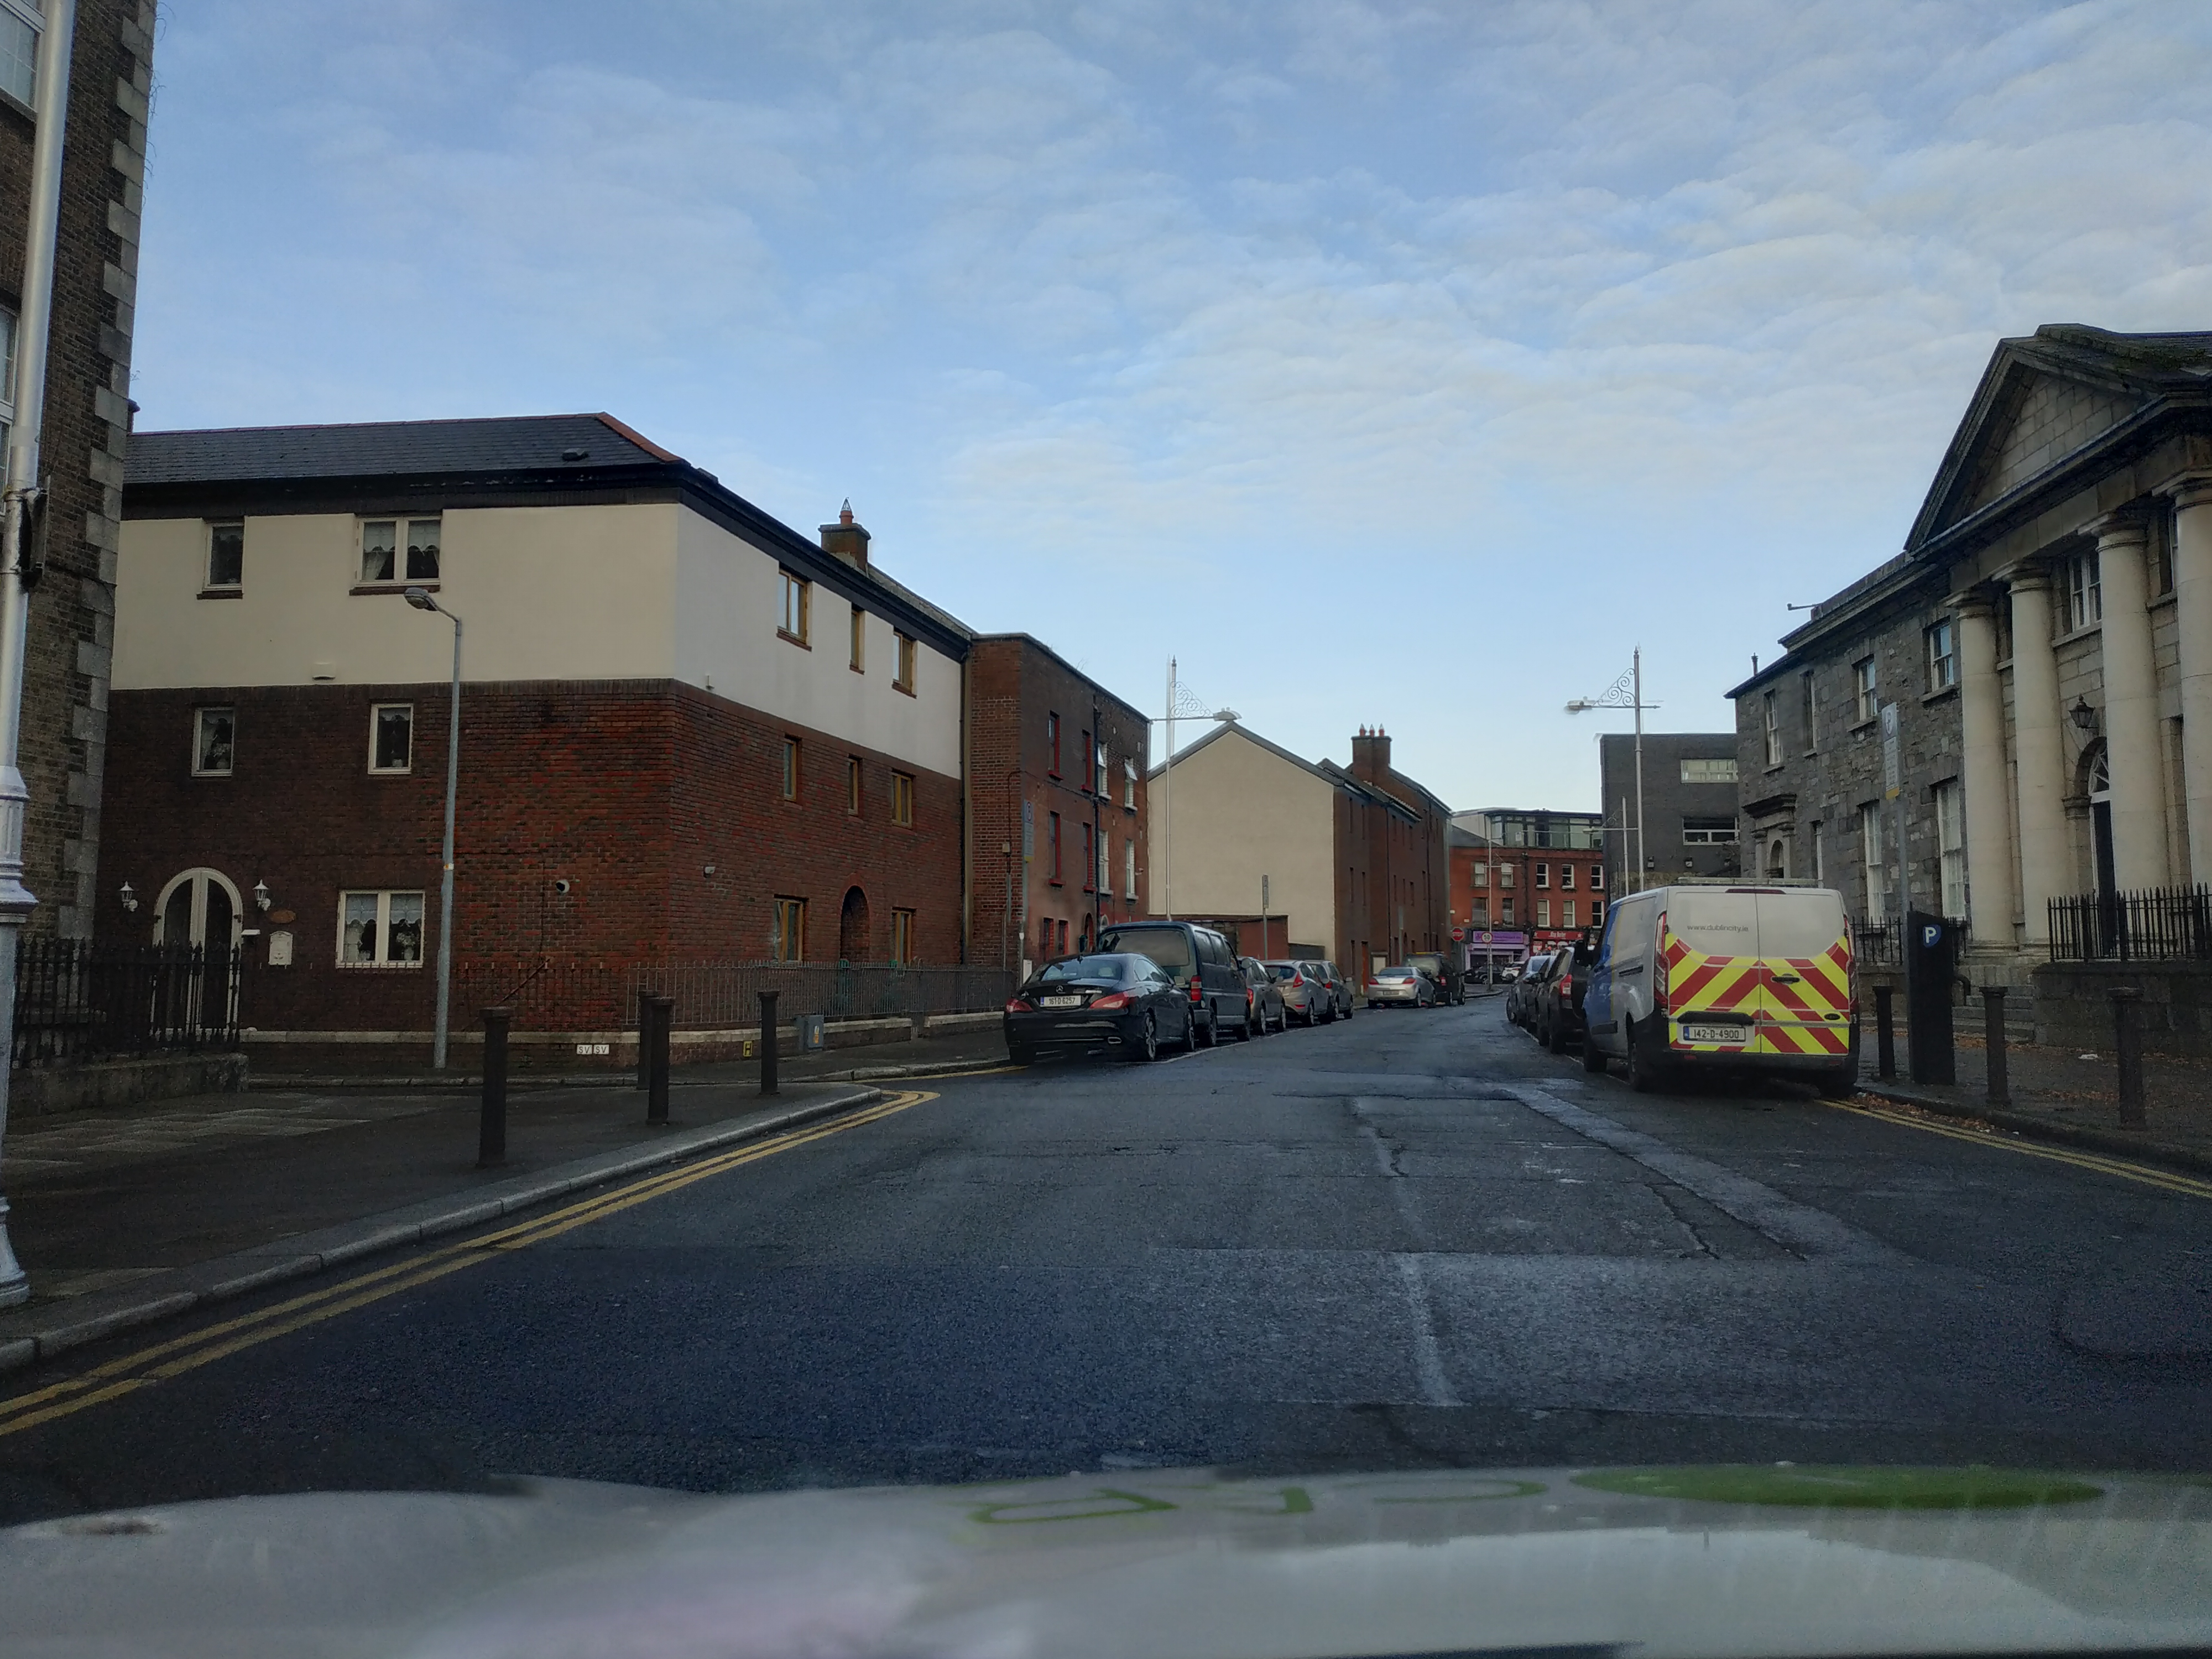Car: (1003, 953, 1195, 1066), (1097, 920, 1251, 1044), (1364, 965, 1437, 1007)
Van: (1575, 877, 1860, 1100)
